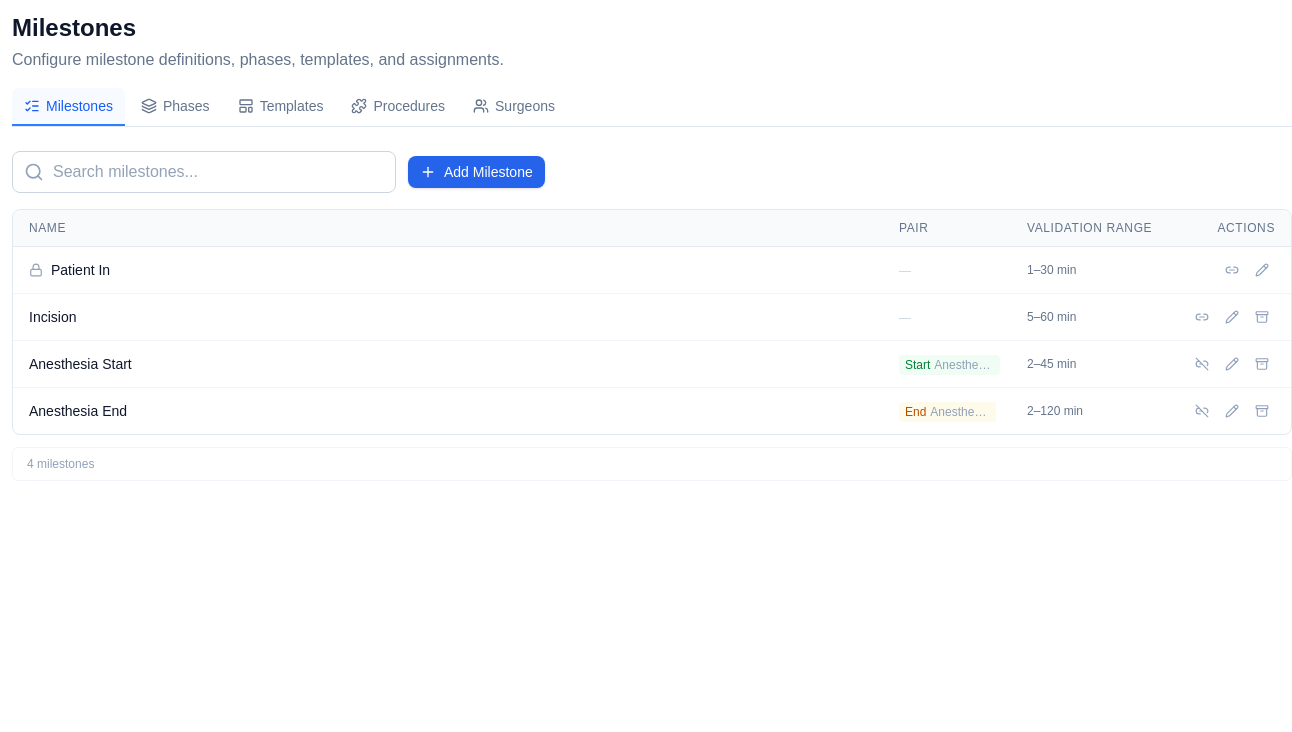
MilestonesSettingsPage › Milestones tab - pair linking › cancels pair linking when Cancel clicked
The width and height of the screenshot is (1292, 732).
Click the button titled "Link with another milestone" next to "1–30 min" at (1232, 270), box [1219,257,1245,283]
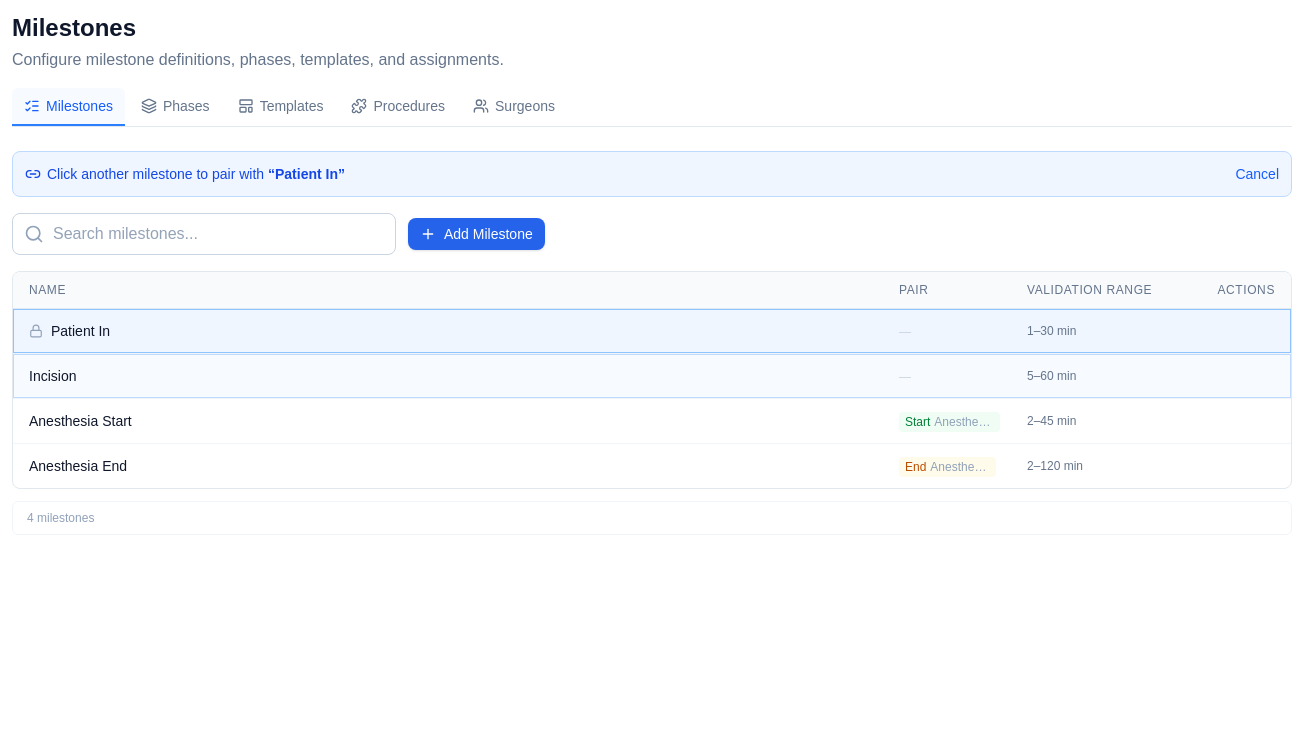
Click the button "Cancel" at (1257, 174), box [1235,164,1279,184]
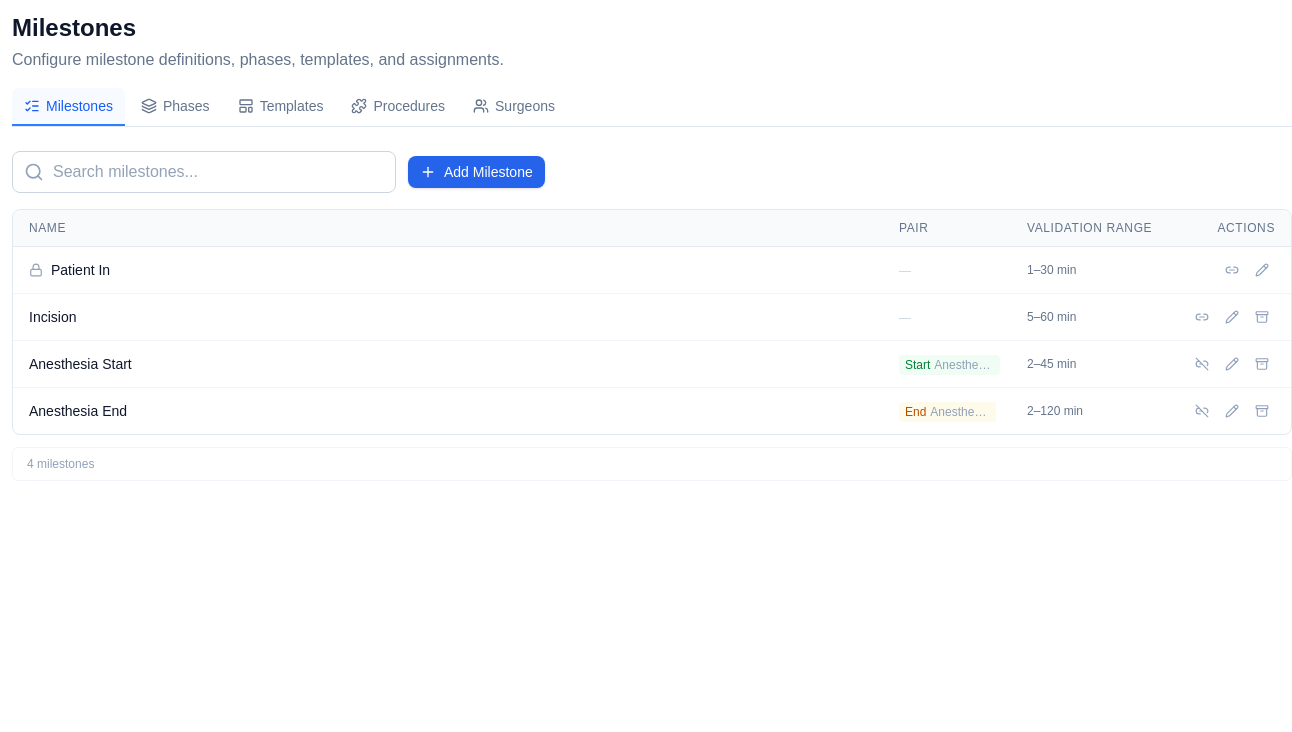
Result: the text "Click another milestone to pair with" is gone
